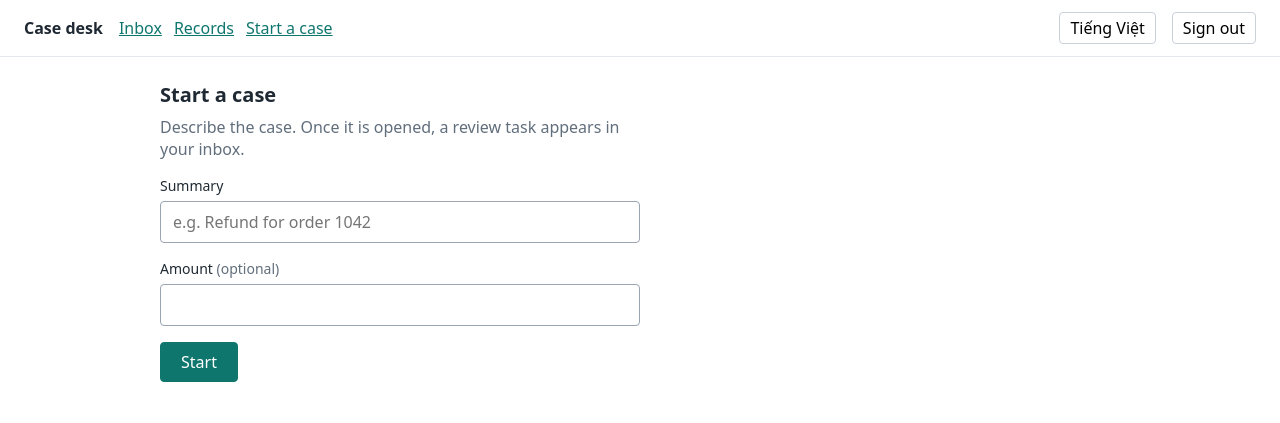
App › Start a case › keeps the error in the current language
Click the button "Start". click: coordinates (199, 362)
box: x1=160 y1=342 x2=238 y2=382
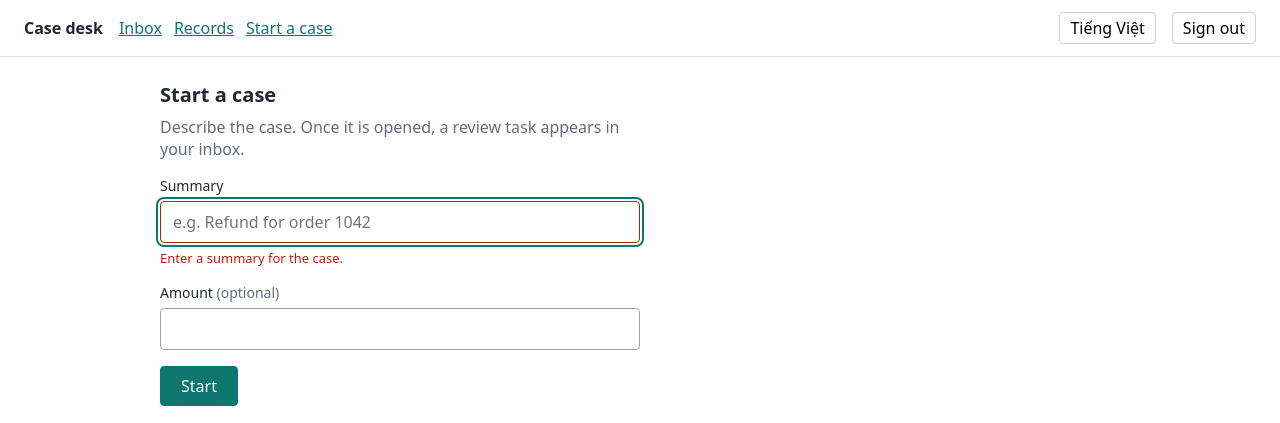
Expected: the message reads "Enter a summary for the case.", x1=160 y1=249 x2=343 y2=267
Click the button "Tiếng Việt". click: coordinates (1108, 28)
box: x1=1059 y1=12 x2=1156 y2=44
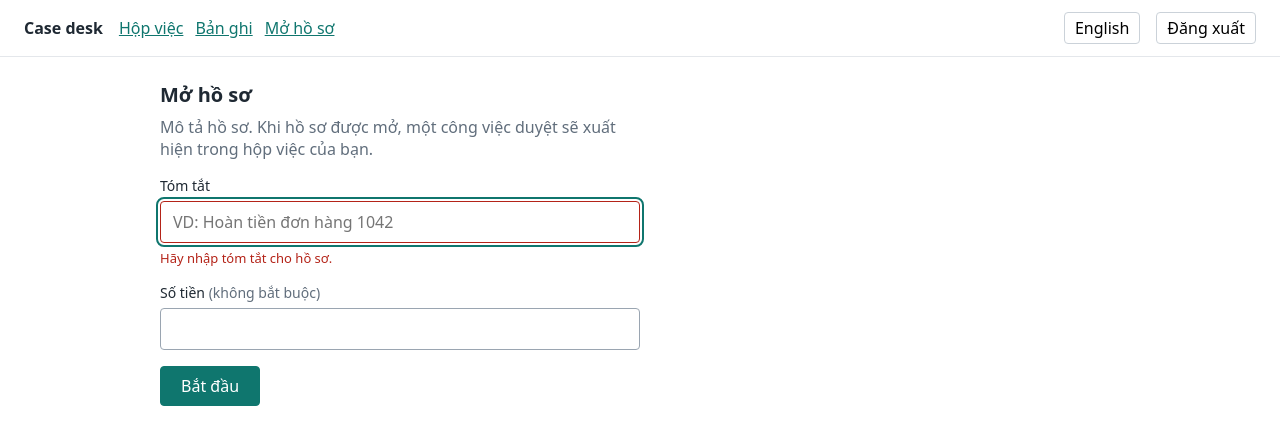
Expected: the message reads "Hãy nhập tóm tắt cho hồ sơ.", x1=160 y1=249 x2=332 y2=267
